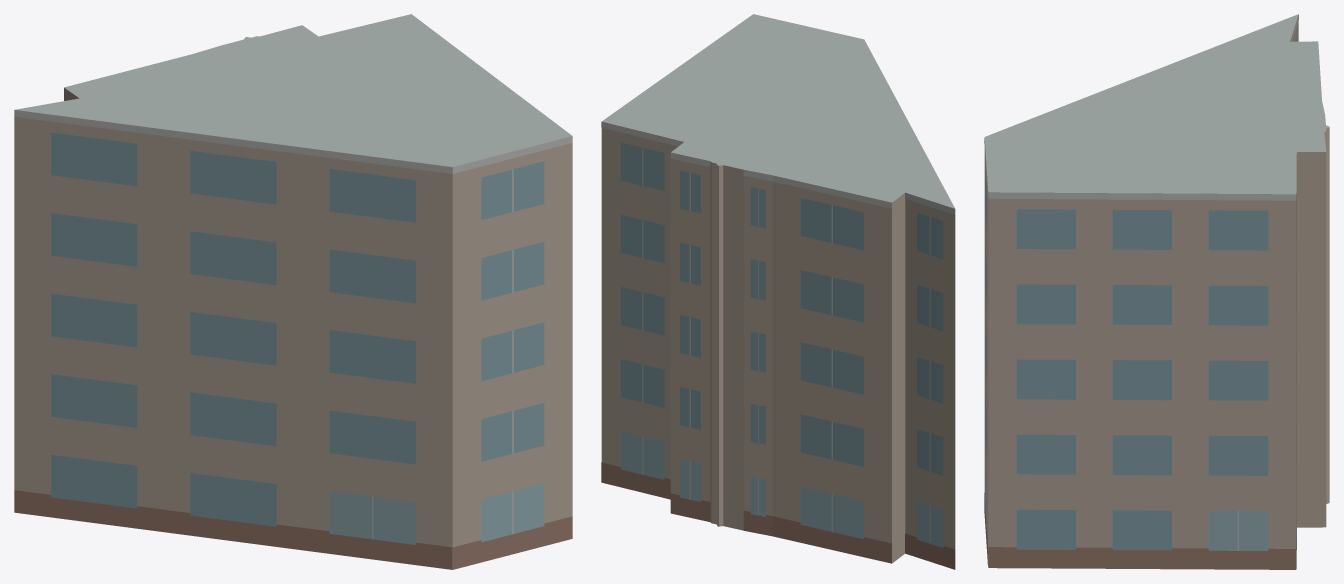
File: survey-upis-32999673.glb
The picture shows the model from 3 angles, left to right: view 1: azimuth 30°, elevation 25°; view 2: azimuth 150°, elevation 25°; view 3: azimuth 270°, elevation 25°; orthographic projection. The views are drawn at different scales.
Parts seen in each view (by area): view 1: survey-upis-32999673.tmp; view 2: survey-upis-32999673.tmp; view 3: survey-upis-32999673.tmp.
Part boxes in pixels (x1,y1,x2,y2): survey-upis-32999673.tmp: [14, 14, 572, 569]; survey-upis-32999673.tmp: [601, 14, 955, 569]; survey-upis-32999673.tmp: [984, 14, 1329, 569].
Size of the model in its own units: 14.83 by 14.4 by 11.99.
